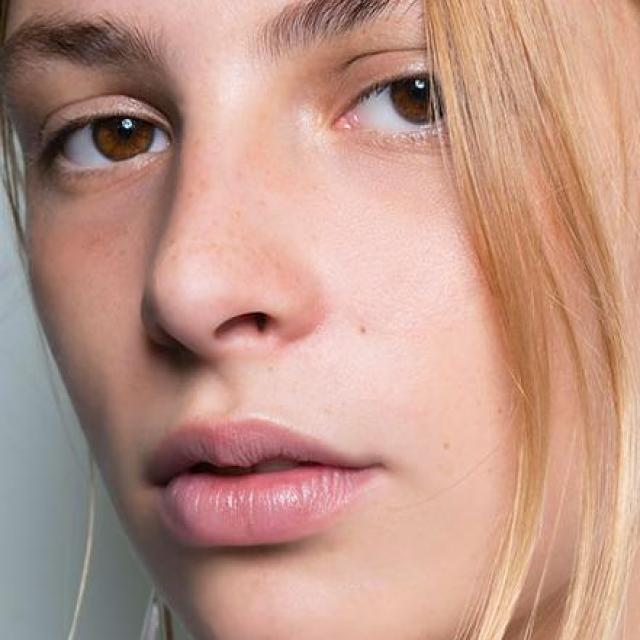blackheads: (357, 324, 374, 342), (438, 440, 456, 456)
